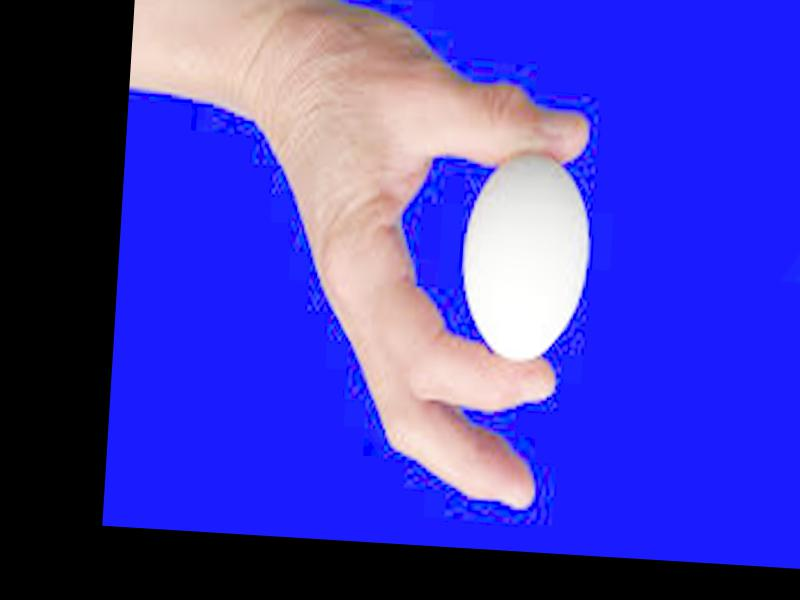Eggs: (457, 150, 593, 368)
